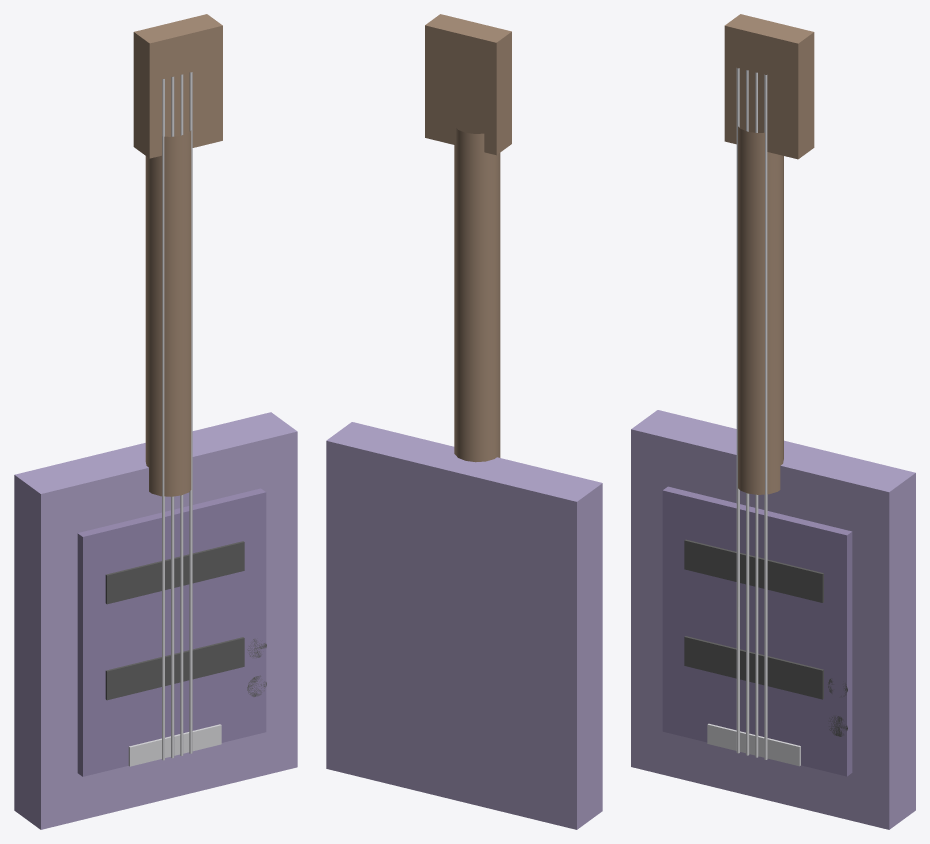
File: bass.glb
The picture shows the model from 3 angles, left to right: view 1: azimuth 30°, elevation 25°; view 2: azimuth 150°, elevation 25°; view 3: azimuth 330°, elevation 25°; orthographic projection. The views are drawn at different scales.
Parts seen in each view (by area): view 1: bass; view 2: bass; view 3: bass.
Part boxes in pixels (x1,y1,x2,y2): bass: (14, 14, 297, 829); bass: (326, 14, 602, 829); bass: (631, 14, 915, 829).
Size of the model in its own units: 0.56 by 1.6 by 0.145.
